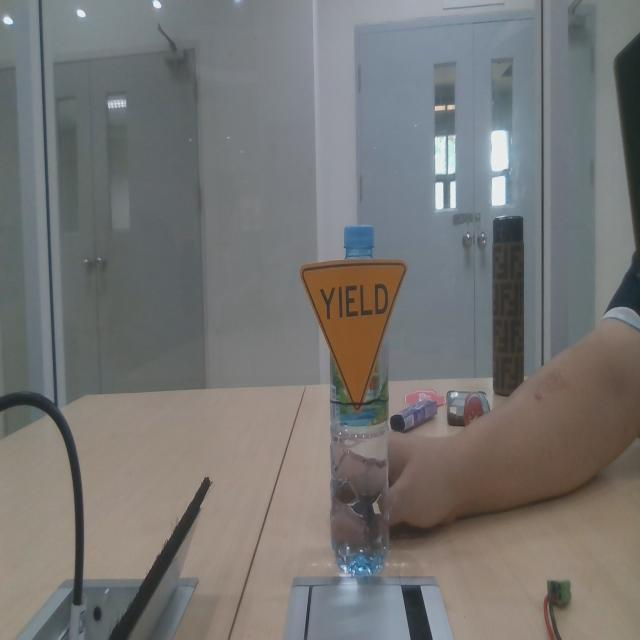Yield: (298, 255, 412, 430)
